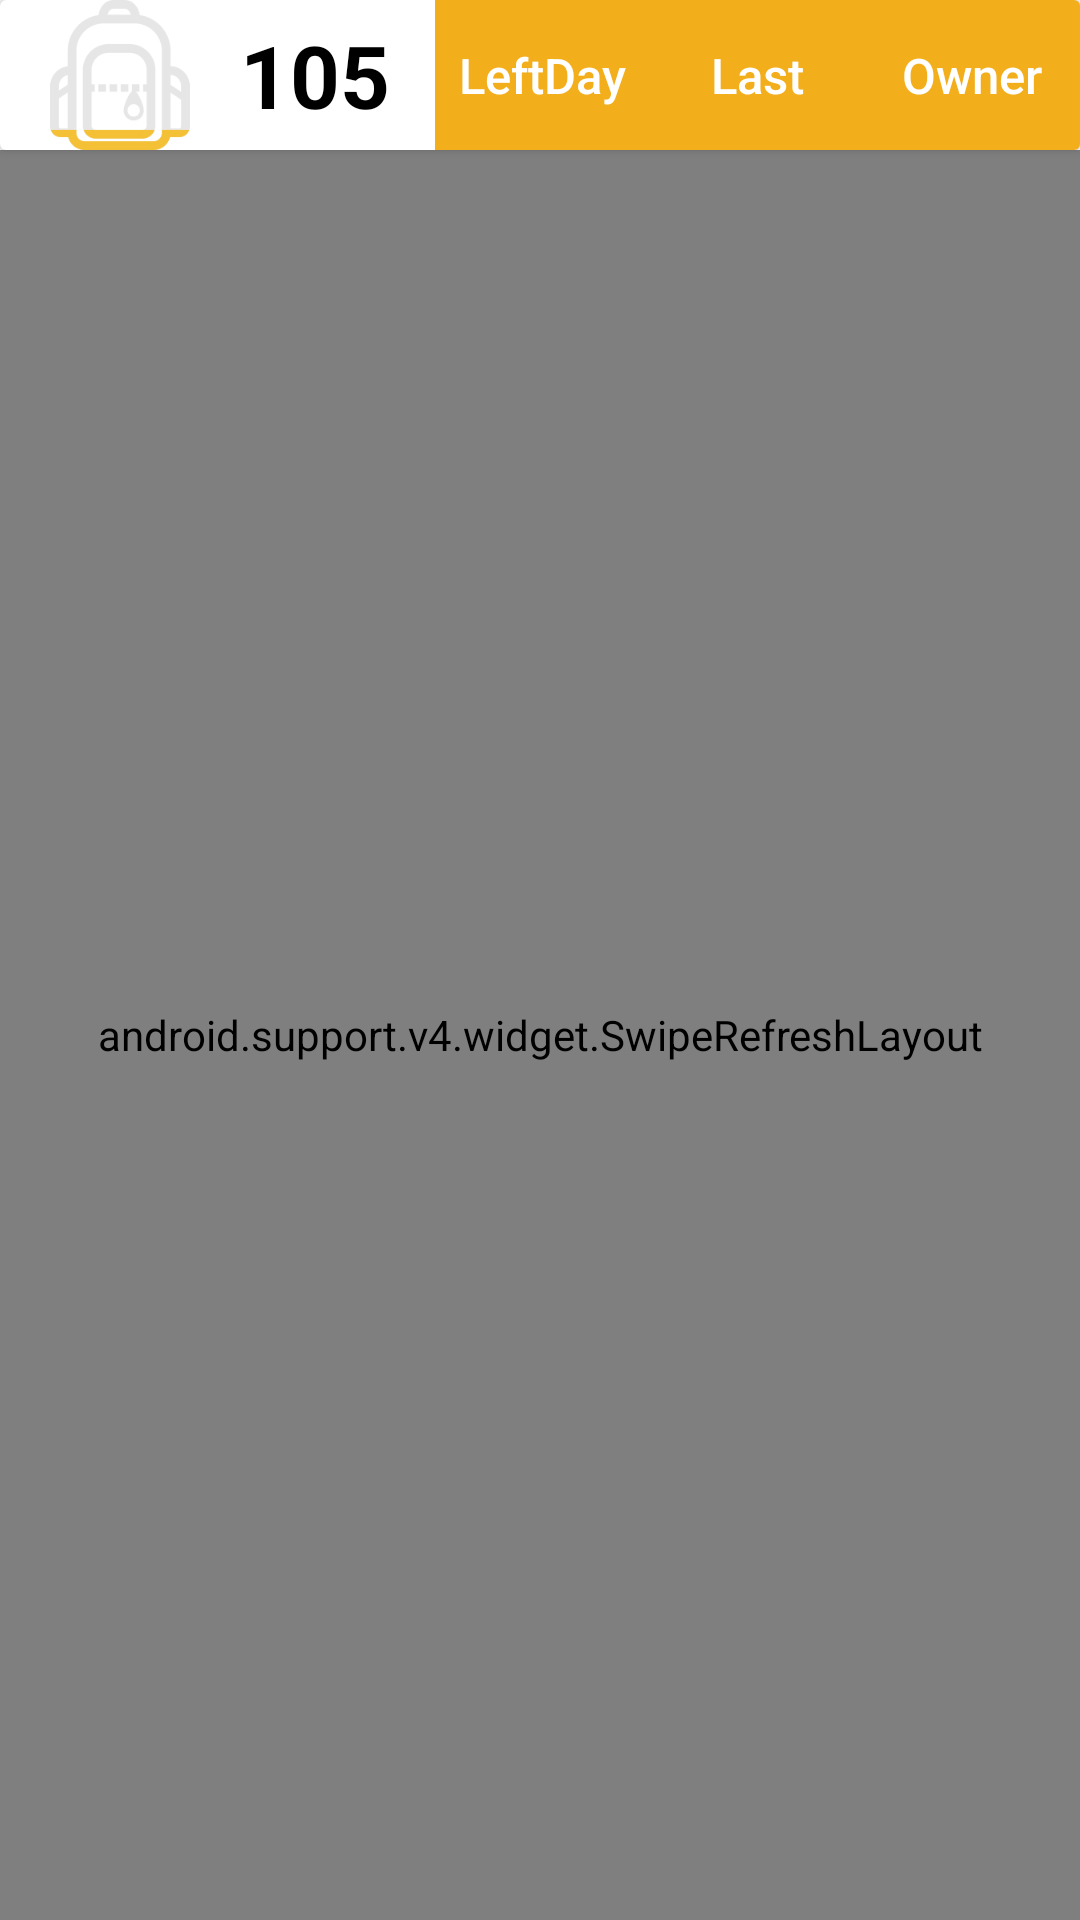

Icons on this 1080 × 1920 Android screen, each with the point to tap as [x,y]:
nodata backpack: [120,75]
